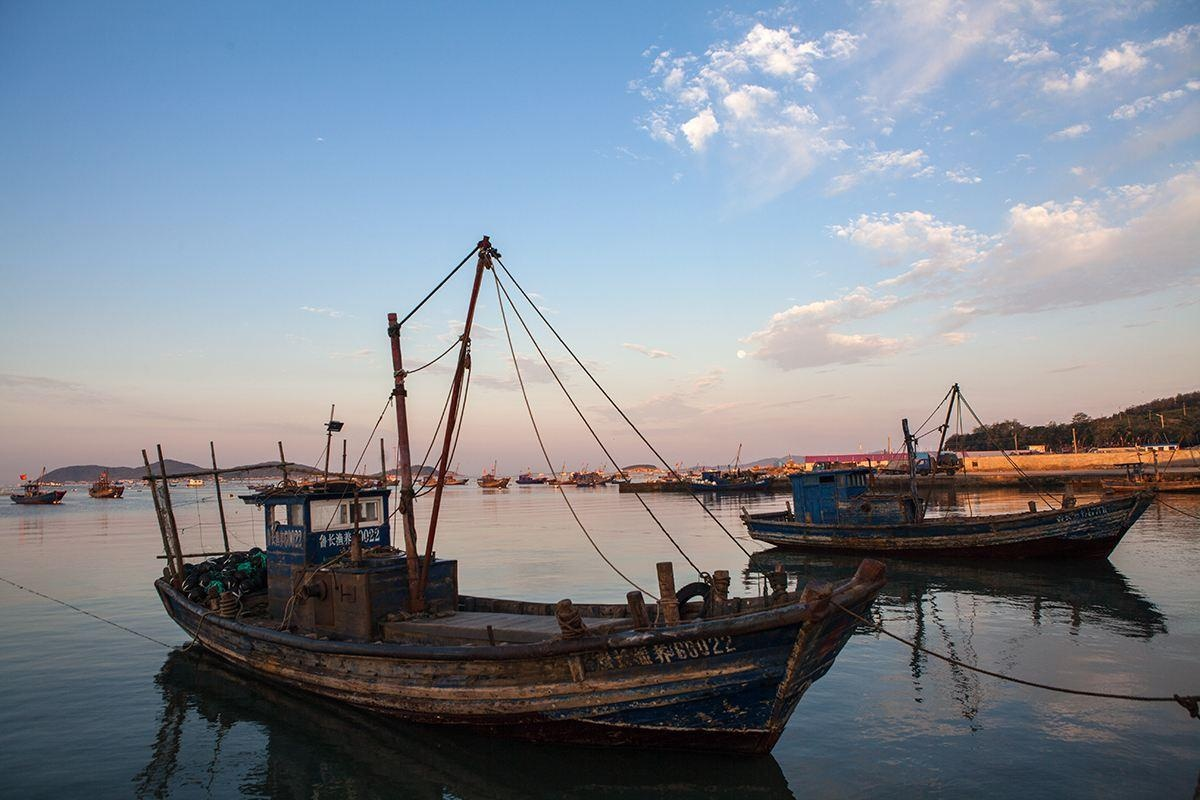otherboat: (152, 235, 883, 736), (743, 416, 1156, 557)
